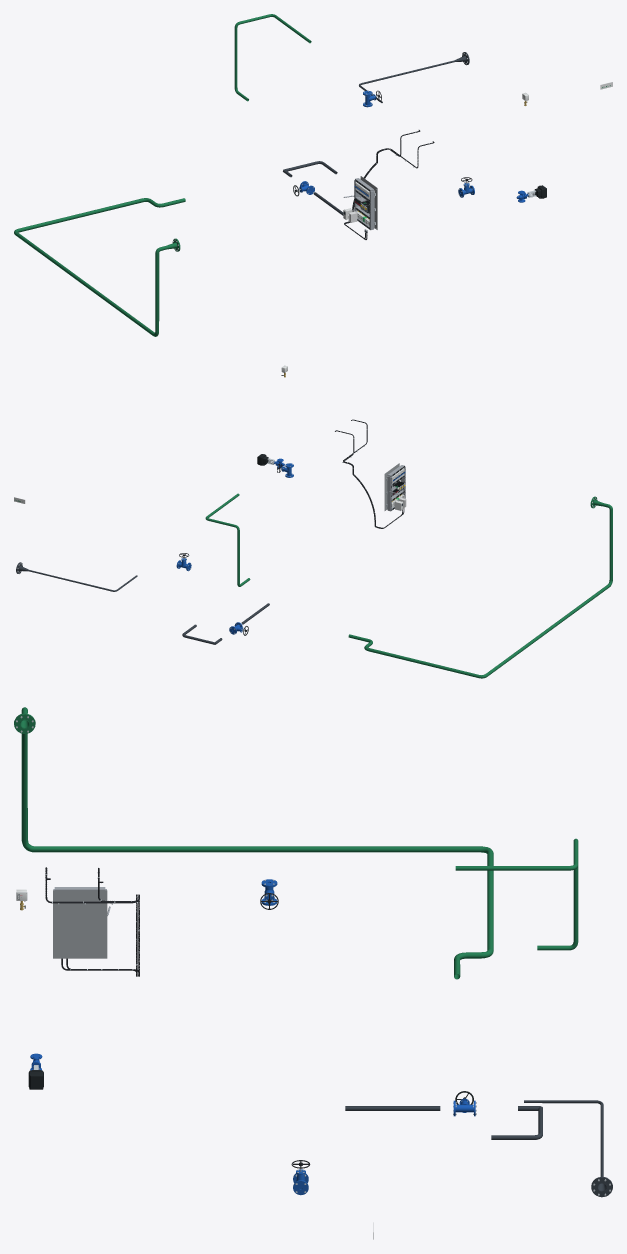
Rendered from s4000-7-BdqlWzTM.glb.
3 renders of one model, top to bottom at view 1: azimuth 30°, elevation 25°; view 2: azimuth 150°, elevation 25°; view 3: azimuth 270°, elevation 25°, orthographic. The views are drawn at different scales.
Visible parts, largest first — view 1: deaerator_feed / green, cabinet_interior / cabinet_interior_0.npz, from_economizer / green; view 2: deaerator_feed / green, cabinet_interior / cabinet_interior_0.npz, from_economizer / green; view 3: deaerator_feed / green, cabinet_interior / cabinet_interior_0.npz, from_economizer / green, tds_to_fv / dark.
Part boxes in pixels (x1,y1,x2,y2): deaerator_feed / green: [14, 198, 185, 336]; cabinet_interior / cabinet_interior_0.npz: [343, 176, 377, 230]; from_economizer / green: [234, 14, 311, 101]; deaerator_feed / green: [348, 496, 612, 678]; cabinet_interior / cabinet_interior_0.npz: [384, 463, 405, 511]; from_economizer / green: [205, 493, 250, 586]; deaerator_feed / green: [14, 707, 493, 979]; cabinet_interior / cabinet_interior_0.npz: [53, 887, 110, 958]; from_economizer / green: [455, 838, 578, 950]; tds_to_fv / dark: [524, 1100, 612, 1197].
Size of the model in its own units: 9.48 by 2.87 by 5.37.
